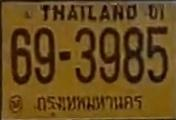3: (74, 27, 95, 82)
5: (146, 26, 167, 82)
6: (10, 28, 31, 84)
8: (123, 26, 143, 82)
9: (98, 26, 120, 82), (33, 27, 54, 83)
BKK: (35, 90, 143, 117)
